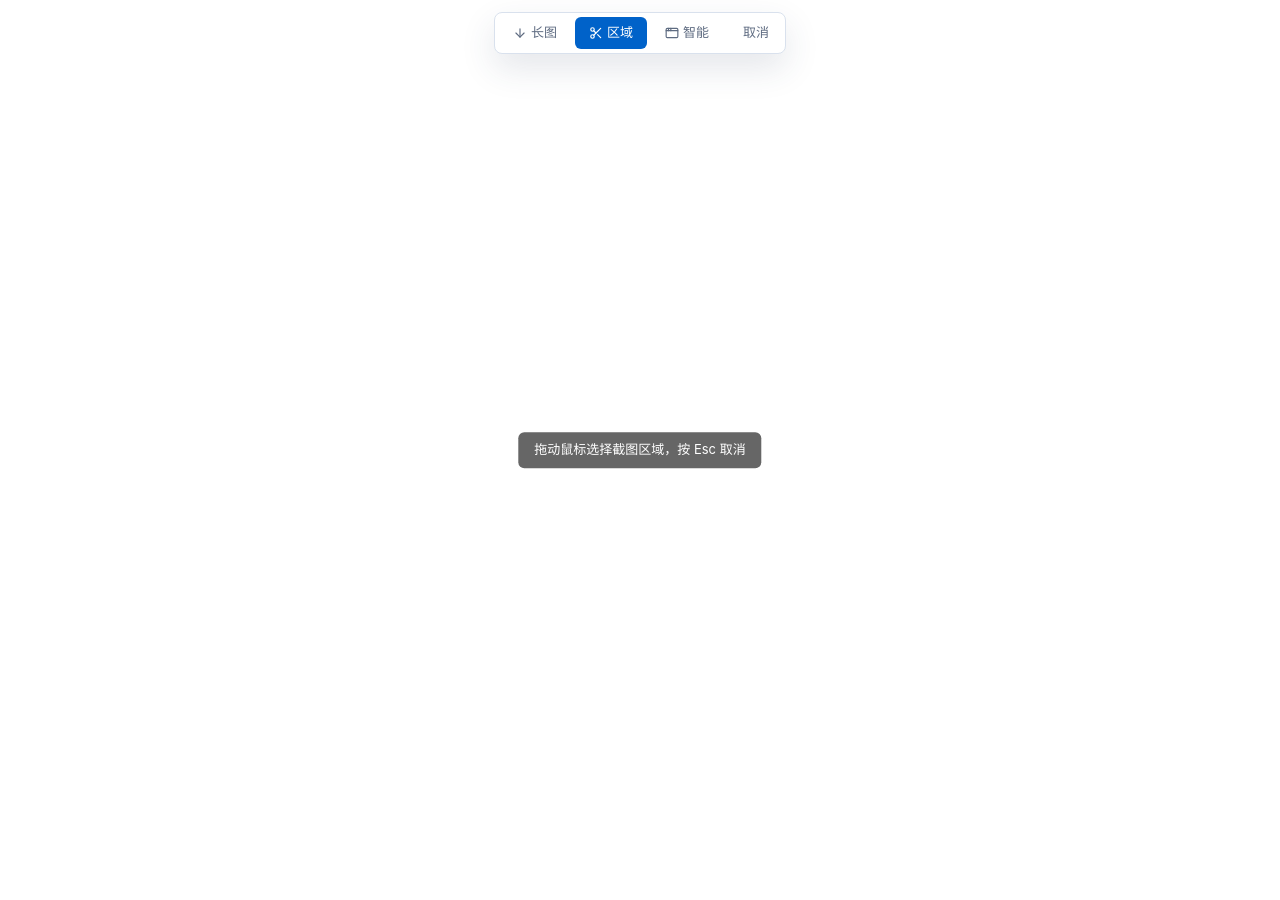
Test case: ScreenshotTool 标注流程 › OCR 返回空文本时显示提示且不清空剪贴板
Press the mouse on the element with class "ss-overlay" at (640, 450), box x1=494 y1=12 x2=786 y2=468
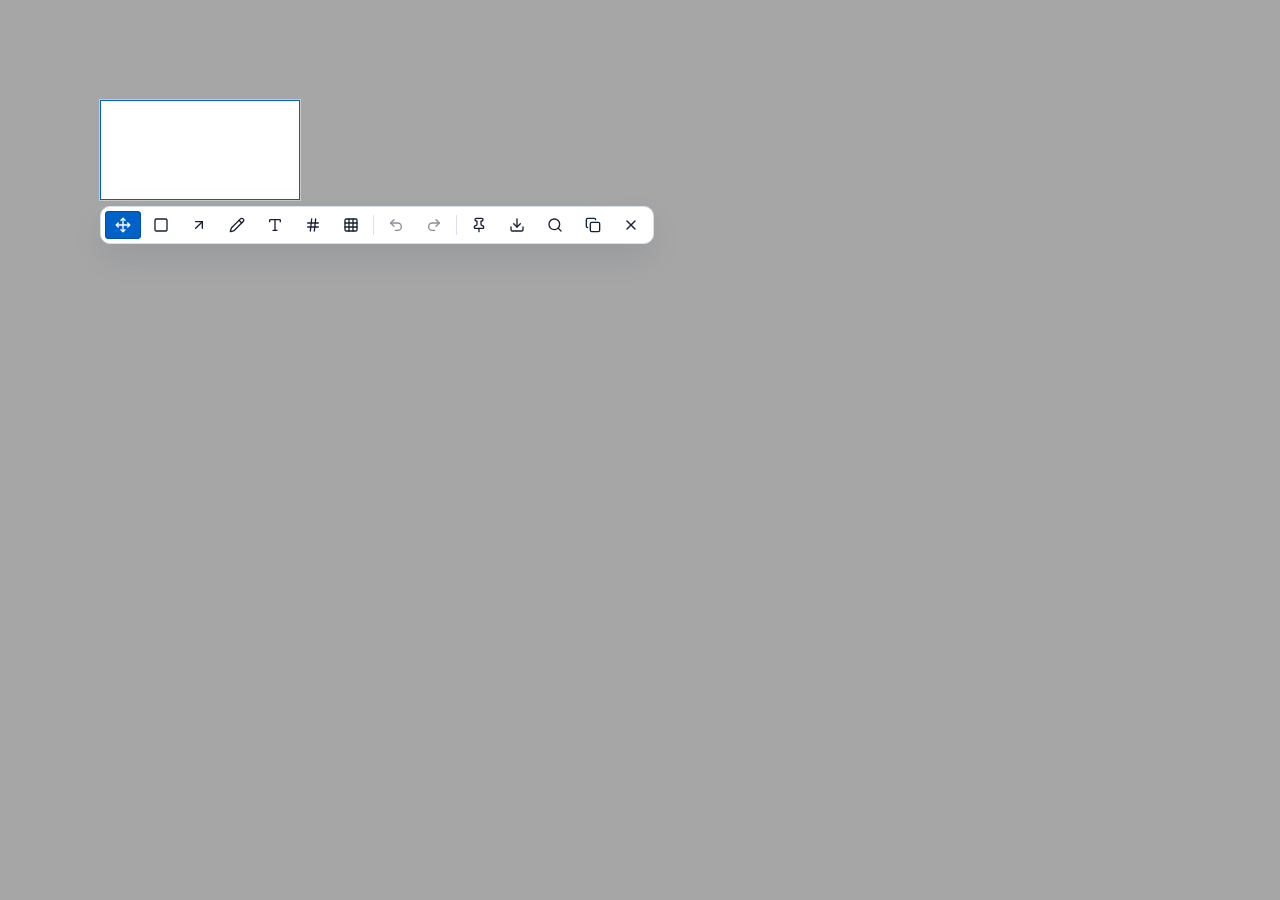
Click the button named "OCR" at (555, 225), box x1=537 y1=211 x2=573 y2=239
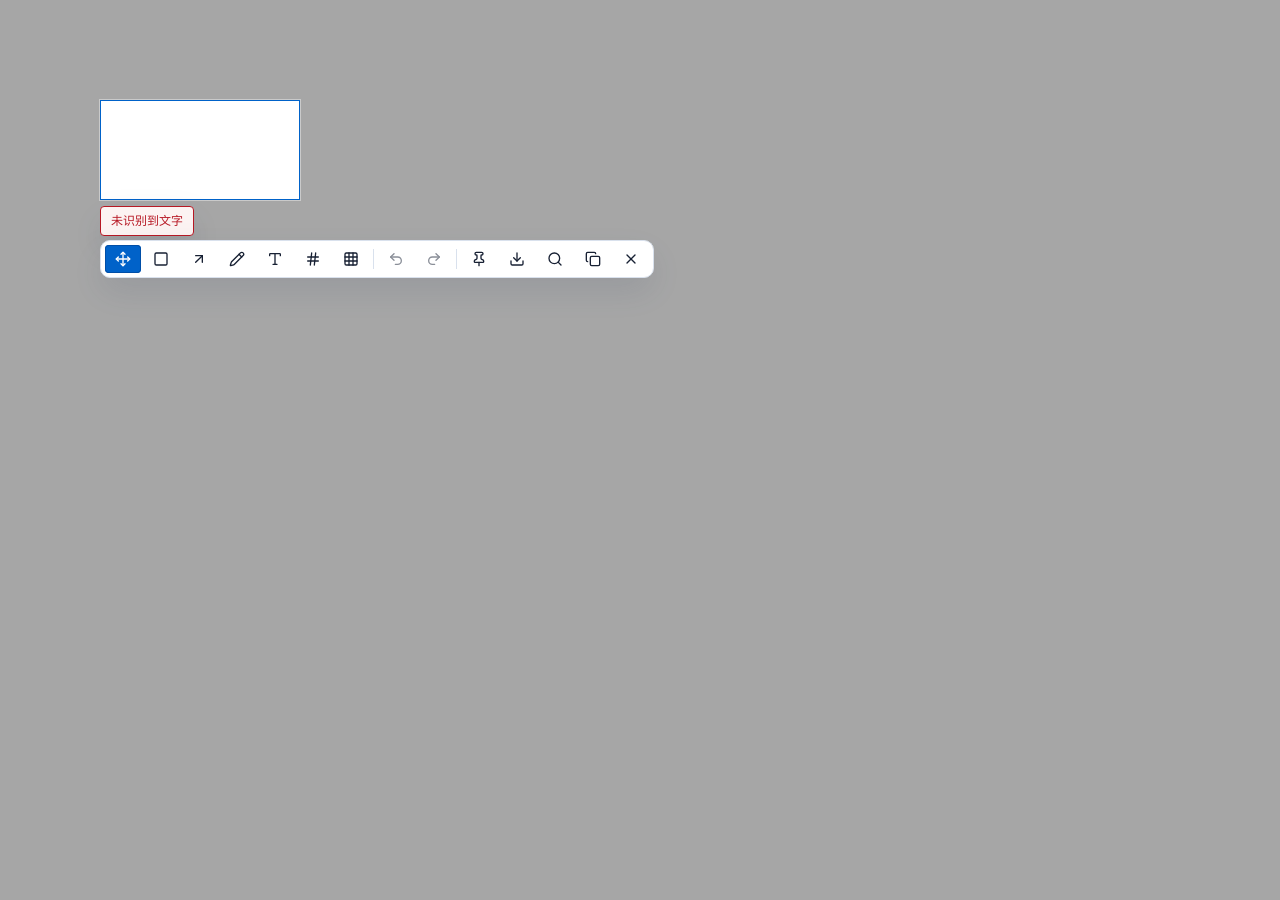
Expected: the element with class "ss-annotate-toolbar" is shown, x1=100 y1=240 x2=654 y2=278
Expected: the text "未识别到文字" is shown, x1=100 y1=206 x2=194 y2=236
